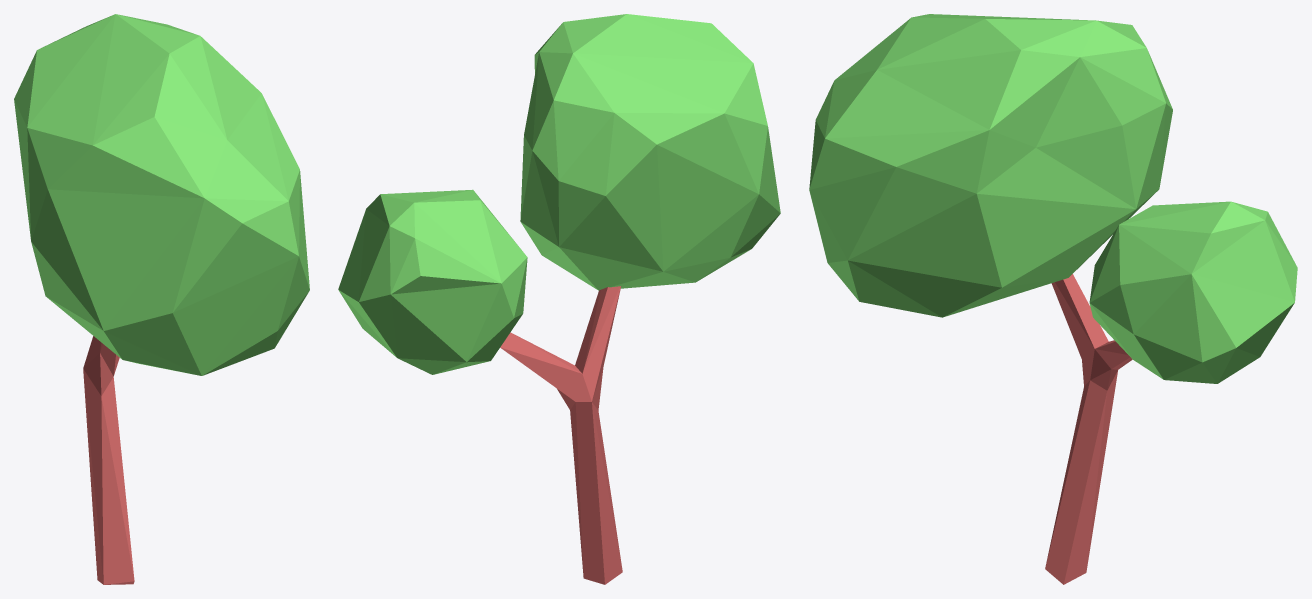
The model's file is tree_8.fbx.
The picture shows the model from 3 angles, left to right: view 1: azimuth 30°, elevation 25°; view 2: azimuth 150°, elevation 25°; view 3: azimuth 270°, elevation 25°; orthographic projection. The views are drawn at different scales.
Parts seen in each view (by area): view 1: Plane.011; view 2: Plane.011; view 3: Plane.011.
Part boxes in pixels (x1,y1,x2,y2): Plane.011: (14,14,309,584); Plane.011: (338,14,780,584); Plane.011: (809,14,1297,584).
Size of the model in its own units: 665 by 1113 by 872.
